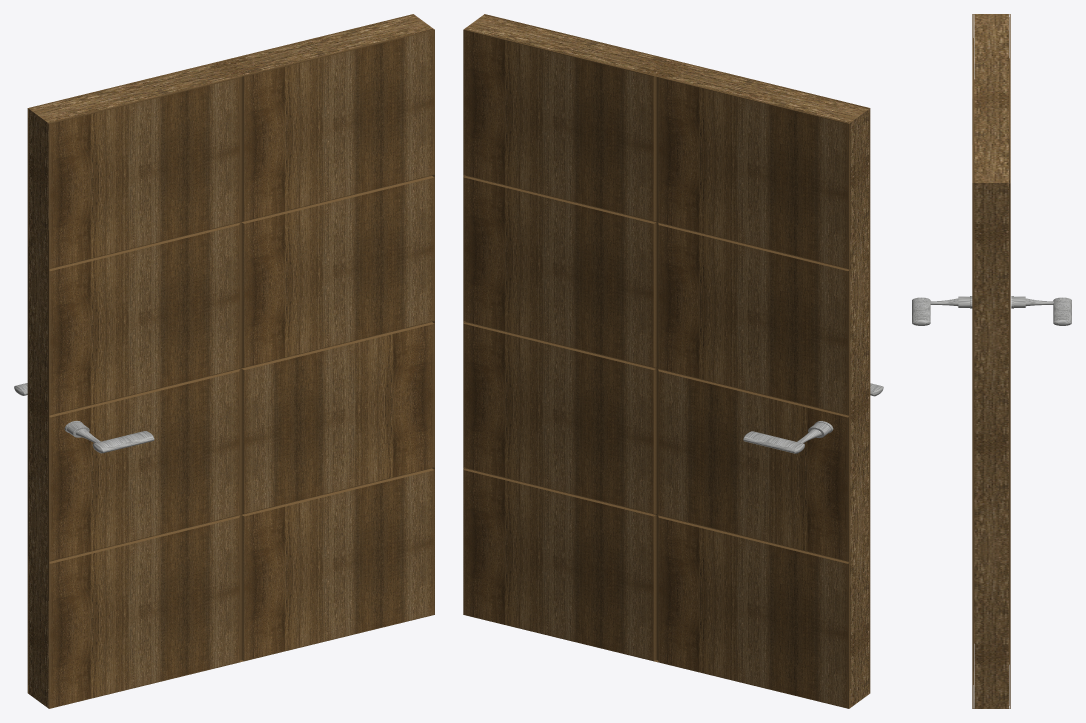
Rendered from puertapt.obj.
The picture shows the model from 3 angles, left to right: view 1: azimuth 30°, elevation 25°; view 2: azimuth 150°, elevation 25°; view 3: azimuth 270°, elevation 25°; orthographic projection. The views are drawn at different scales.
Visible parts, largest first — view 1: group puertapt1:doorpasted__pasted__pasted__grouppasted__pasted_, puertapt1:DoorFBXASC032Rodos001handle001opendoor001past group; view 2: group puertapt1:doorpasted__pasted__pasted__grouppasted__pasted_, puertapt1:DoorFBXASC032Rodos001handle001opendoor001past group; view 3: group puertapt1:doorpasted__pasted__pasted__grouppasted__pasted_, puertapt1:DoorFBXASC032Rodos001handle001opendoor001past group.
Boxes of the visible parts, bbox=[...] form: group puertapt1:doorpasted__pasted__pasted__grouppasted__pasted_: bbox=[27, 14, 434, 708]; puertapt1:DoorFBXASC032Rodos001handle001opendoor001past group: bbox=[14, 383, 154, 453]; group puertapt1:doorpasted__pasted__pasted__grouppasted__pasted_: bbox=[463, 14, 870, 708]; puertapt1:DoorFBXASC032Rodos001handle001opendoor001past group: bbox=[743, 383, 883, 453]; group puertapt1:doorpasted__pasted__pasted__grouppasted__pasted_: bbox=[972, 14, 1010, 708]; puertapt1:DoorFBXASC032Rodos001handle001opendoor001past group: bbox=[912, 296, 1071, 325].
Size of the model in its own units: 15.95 by 23.13 by 6.38.
2 materials, 2 textured.
